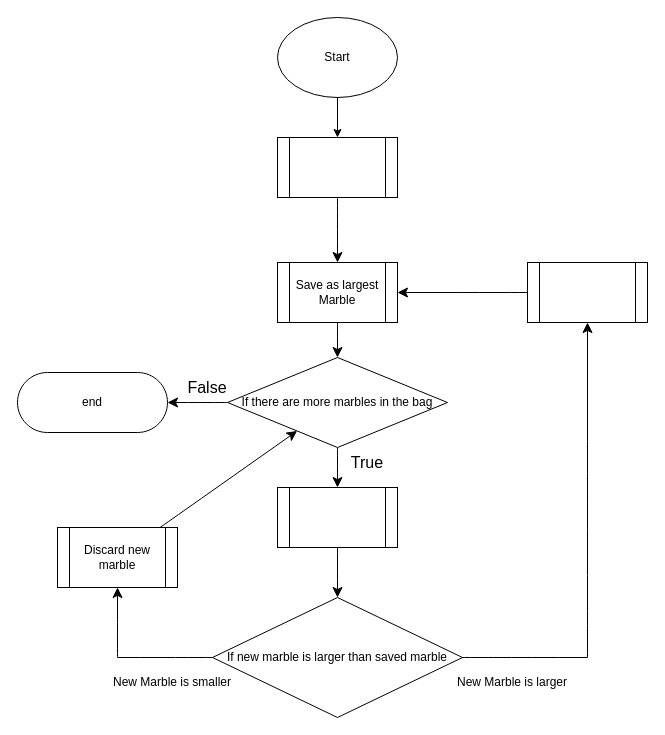
Some shapes in this 665 by 735 pixel diagram are drawn without their labels. The shapes that lost their labels are listed below. From the top down, each one's centre as x and y in pixels, then its label:
[337,167]: Take out first marble
[587,292]: Discard Previously saved marble
[337,517]: Take out a new marble
